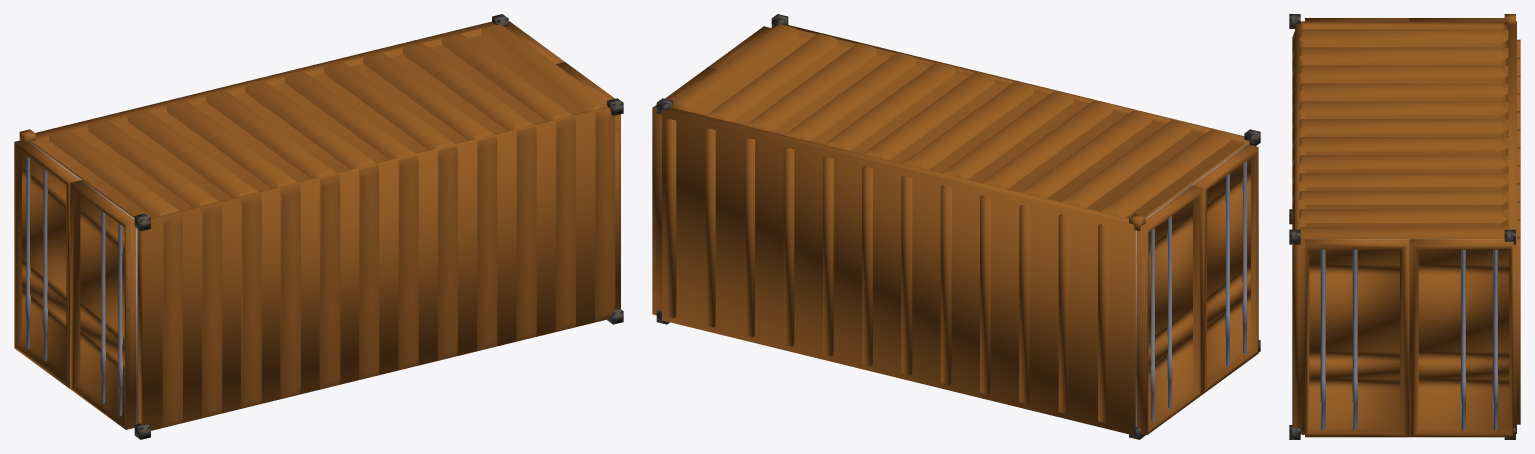
Rendered from mdlShippingContainerOpt.fbx.
The picture shows the model from 3 angles, left to right: view 1: azimuth 30°, elevation 25°; view 2: azimuth 150°, elevation 25°; view 3: azimuth 270°, elevation 25°; orthographic projection. The views are drawn at different scales.
Parts seen in each view (by area): view 1: HumanShippingContainerMesh, HumanShippingContainerDoorMesh; view 2: HumanShippingContainerMesh, HumanShippingContainerDoorMesh; view 3: HumanShippingContainerMesh, HumanShippingContainerDoorMesh.
Part boxes in pixels (x1=…): HumanShippingContainerMesh: x1=19, y1=14, x2=623, y2=439; HumanShippingContainerDoorMesh: x1=14, y1=21, x2=620, y2=429; HumanShippingContainerMesh: x1=656, y1=14, x2=1260, y2=439; HumanShippingContainerDoorMesh: x1=652, y1=26, x2=1258, y2=434; HumanShippingContainerMesh: x1=1289, y1=14, x2=1520, y2=439; HumanShippingContainerDoorMesh: x1=1305, y1=18, x2=1513, y2=437.
Bounding box in the file's own units: 37.25 × 15.79 × 16.1.
